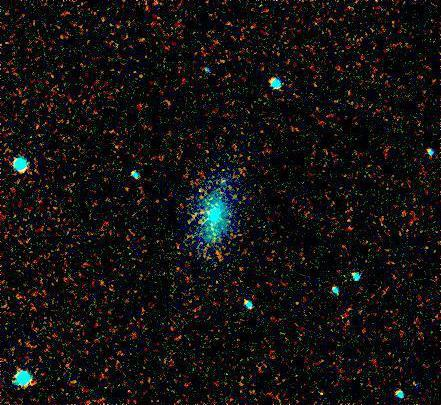star: (189, 179, 219, 209)
